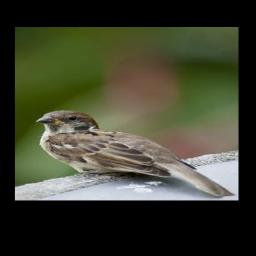Sparrow: (34, 109, 234, 198)
